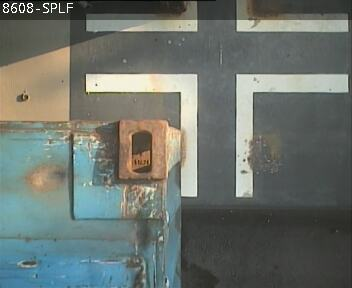groundmarker_1: (85, 73, 349, 196)
